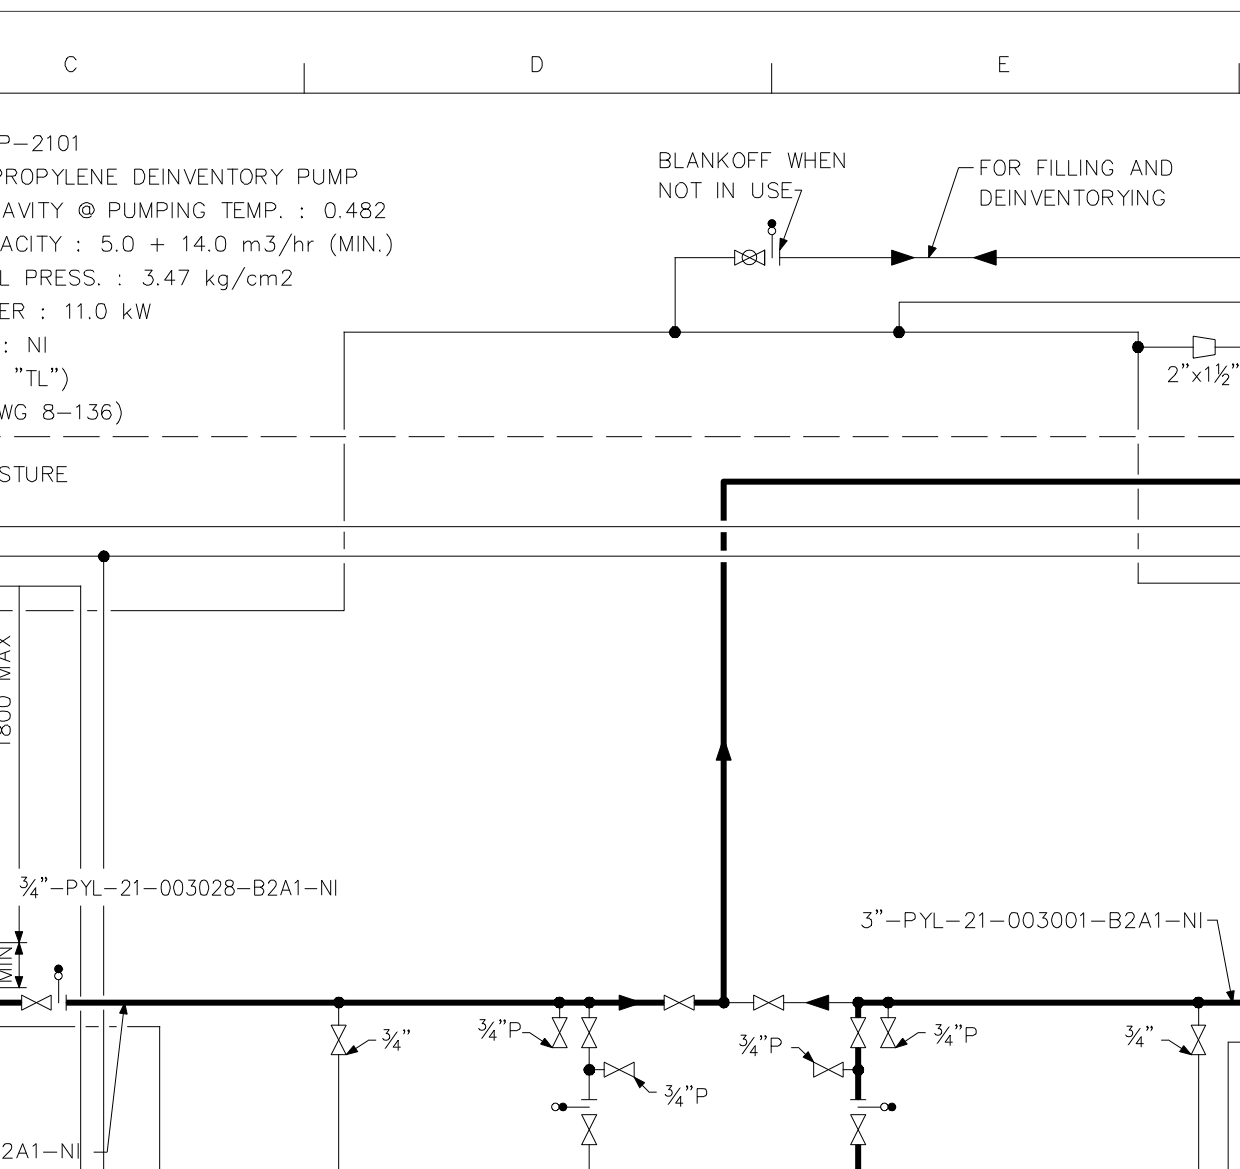Ball Valve: (730, 246, 770, 268)
Line Number: (856, 901, 1208, 936), (18, 870, 343, 904)
Spetacle Blind: (547, 1093, 606, 1121), (841, 1092, 900, 1120), (761, 218, 787, 269)
